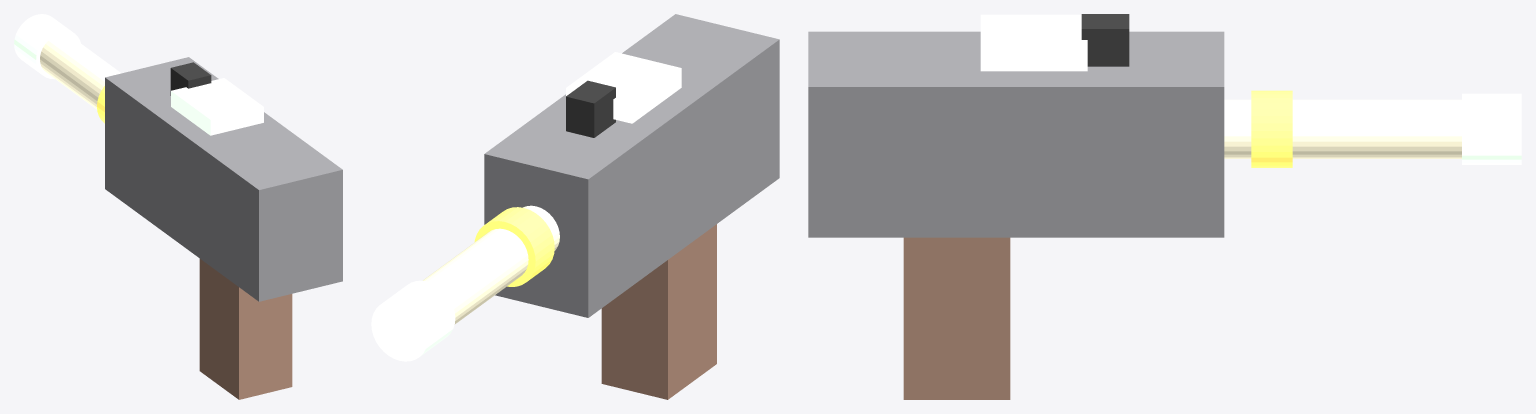
File: raygun.glb
The picture shows the model from 3 angles, left to right: view 1: azimuth 30°, elevation 25°; view 2: azimuth 150°, elevation 25°; view 3: azimuth 270°, elevation 25°; orthographic projection. The views are drawn at different scales.
Parts seen in each view (by area): view 1: SB_RayBody, SB_RayGrip, SB_RayScreen, SB_RayBarrel, SB_RayMuzzle, SB_RaySight; view 2: SB_RayBody, SB_RayGrip, SB_RayBarrel, SB_RayMuzzle, SB_RayScreen, SB_RayRing2, SB_RaySight; view 3: SB_RayBody, SB_RayGrip, SB_RayBarrel, SB_RayScreen, SB_RayMuzzle, SB_RayRing2, SB_RaySight.
Boxes of the visible parts, <box> form: SB_RayBody: <box>105,57,342,301</box>; SB_RayGrip: <box>199,259,292,399</box>; SB_RayScreen: <box>171,78,263,135</box>; SB_RayBarrel: <box>40,34,121,109</box>; SB_RayMuzzle: <box>14,14,80,79</box>; SB_RaySight: <box>170,62,211,95</box>; SB_RayBody: <box>484,14,779,317</box>; SB_RayGrip: <box>601,224,716,399</box>; SB_RayBarrel: <box>423,205,559,324</box>; SB_RayMuzzle: <box>371,280,455,361</box>; SB_RayScreen: <box>566,52,681,123</box>; SB_RayRing2: <box>474,207,554,286</box>; SB_RaySight: <box>566,80,615,137</box>; SB_RayBody: <box>808,31,1224,237</box>; SB_RayGrip: <box>903,237,1010,399</box>; SB_RayBarrel: <box>1224,99,1461,158</box>; SB_RayScreen: <box>980,14,1087,71</box>; SB_RayMuzzle: <box>1462,93,1521,164</box>; SB_RayRing2: <box>1251,90,1292,167</box>; SB_RaySight: <box>1081,14,1129,66</box>.
Bounding box in the file's own units: 0.22 × 0.67 × 1.2.
